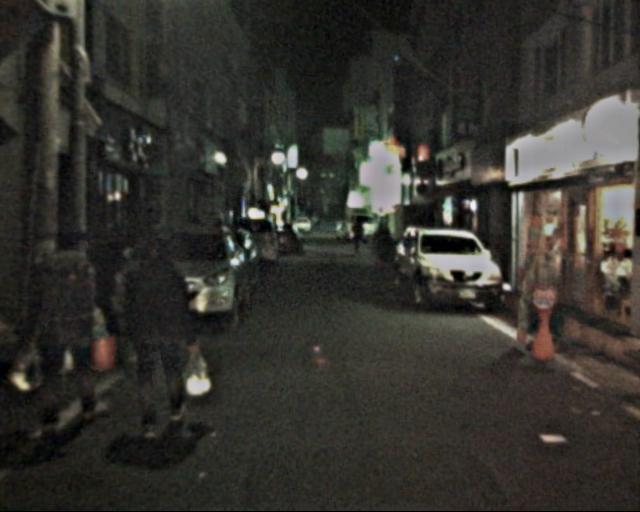person: (18, 219, 117, 430), (117, 227, 205, 437), (346, 217, 367, 259)
